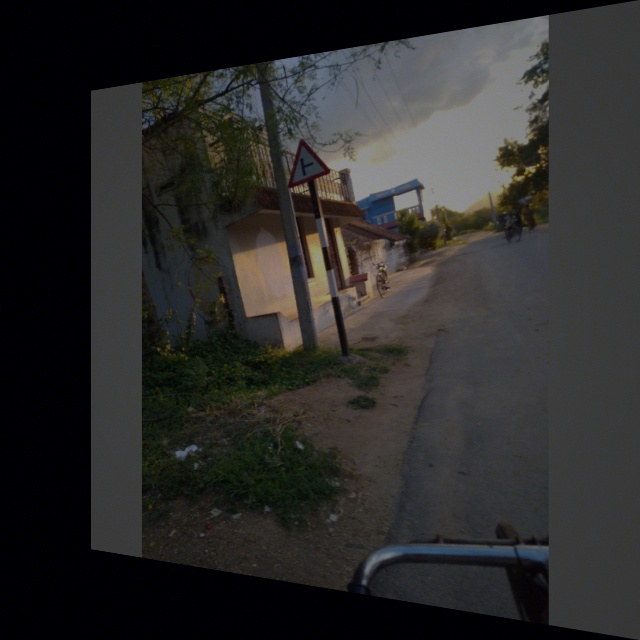Side_Road_Right: (283, 131, 335, 190)
